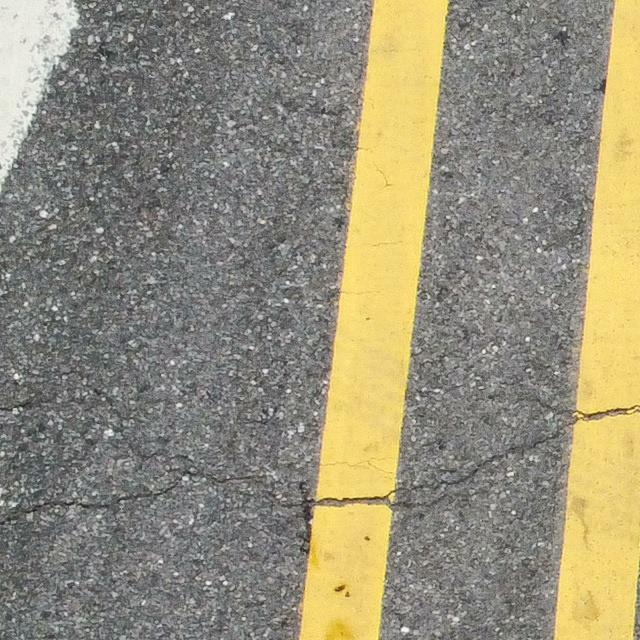TransverseCrack: (292, 401, 640, 546)
